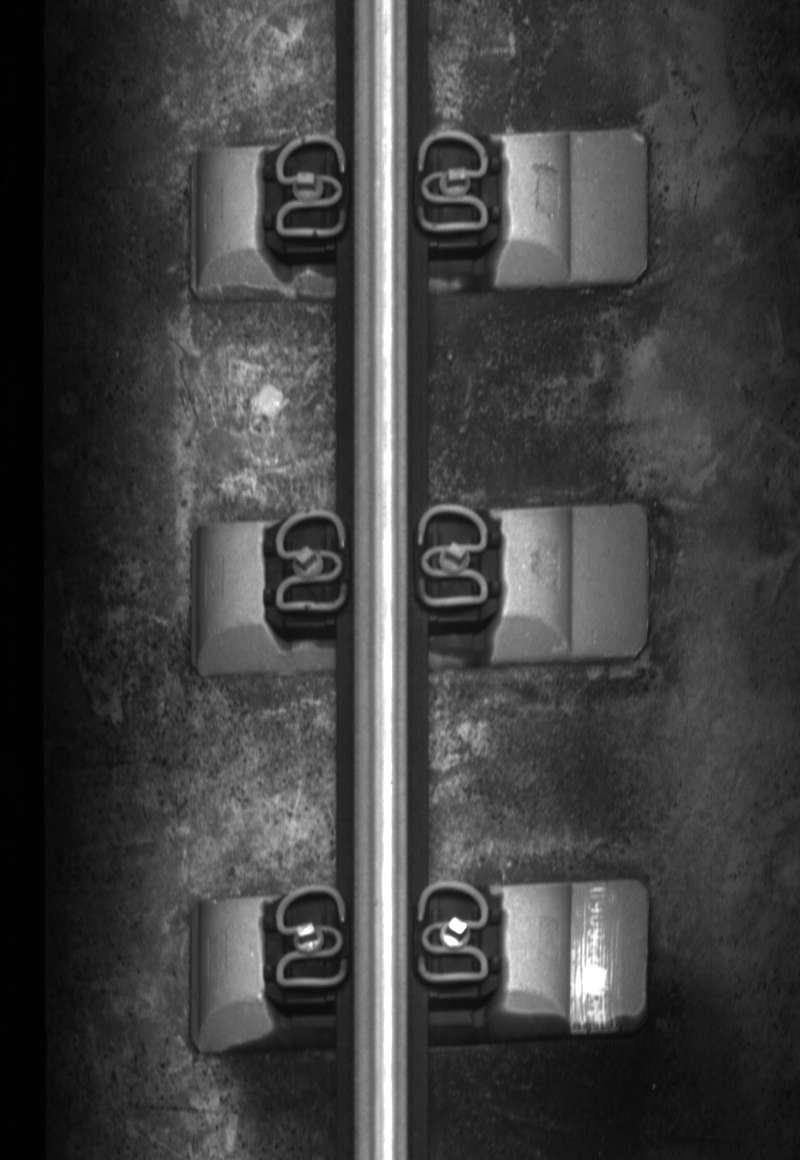l_faster: (271, 501, 351, 617), (269, 130, 350, 243), (268, 882, 350, 991)
r_faster: (411, 123, 495, 241), (410, 498, 495, 614), (411, 879, 492, 988)
